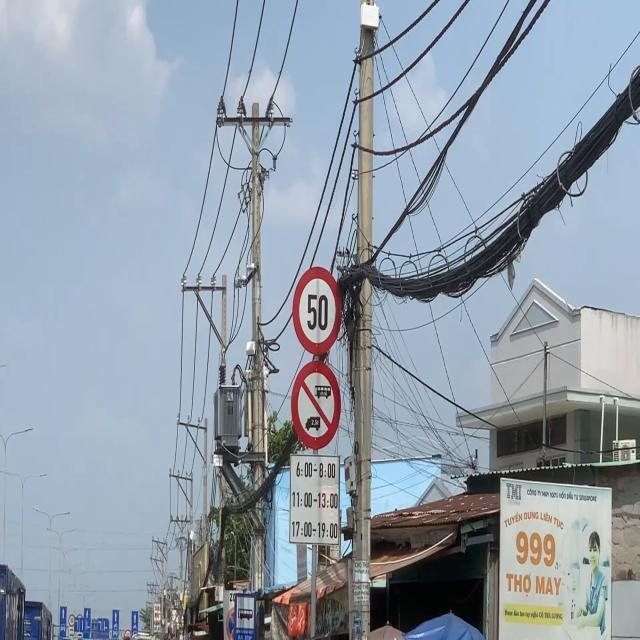bien_cam: (291, 267, 342, 356)
